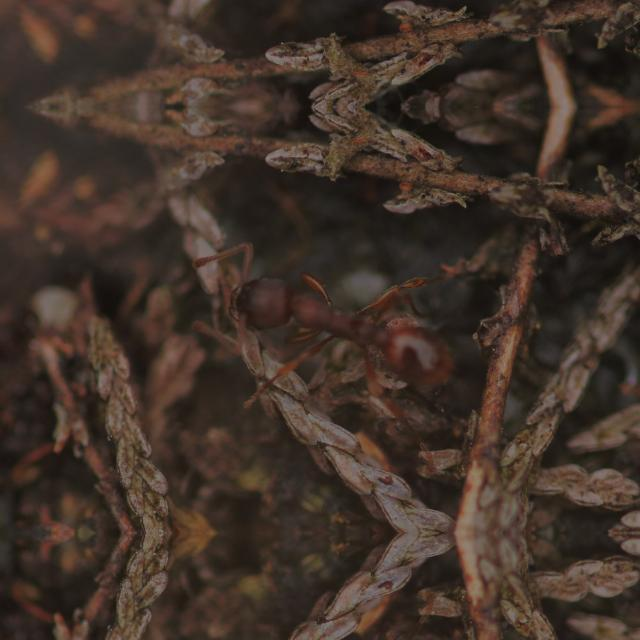Myrmica: (219, 230, 479, 428)
